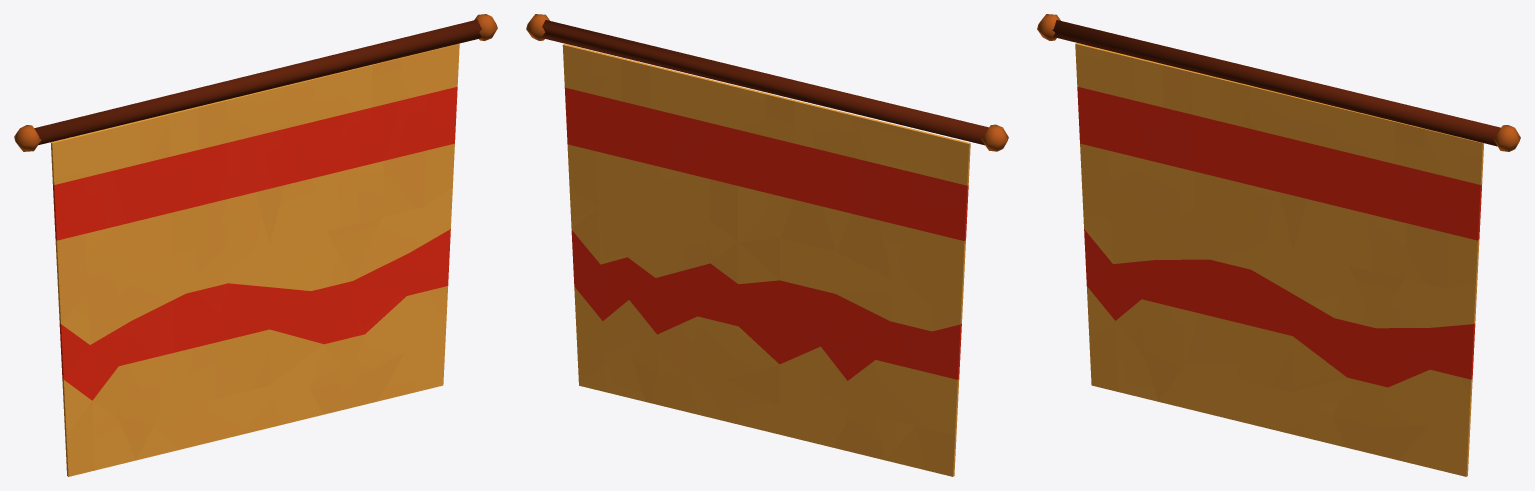
Rendered from tb_sail_sunset.three-web-toon.lod50.glb.
3 renders of one model, left to right at view 1: azimuth 30°, elevation 25°; view 2: azimuth 150°, elevation 25°; view 3: azimuth 330°, elevation 25°, orthographic.
Visible parts, largest first — view 1: sail_cloth_lod, sail_yard_lod; view 2: sail_cloth_lod, sail_yard_lod; view 3: sail_cloth_lod, sail_yard_lod.
Part boxes in pixels (box(x1,y1,x2,y2)): sail_cloth_lod: box(50, 43, 459, 476); sail_yard_lod: box(14, 14, 497, 151); sail_cloth_lod: box(562, 44, 970, 476); sail_yard_lod: box(526, 14, 1008, 151); sail_cloth_lod: box(1075, 43, 1483, 476); sail_yard_lod: box(1037, 14, 1520, 151).
Bounding box in the file's own units: 2.83 × 2.03 × 0.1482.
